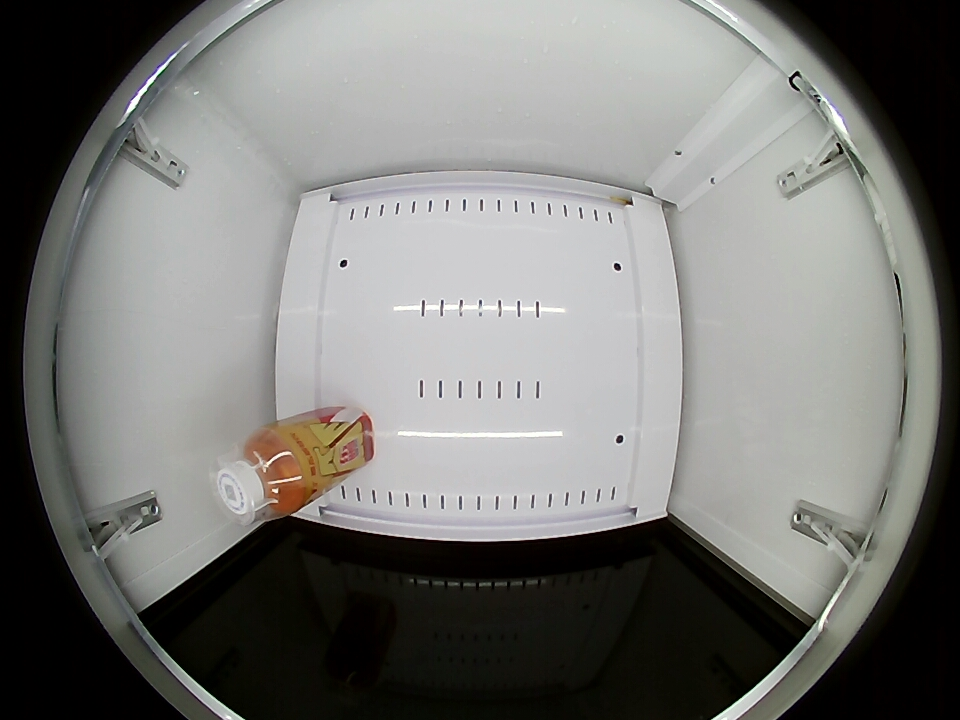dongpeng-b: (214, 427, 313, 522)
